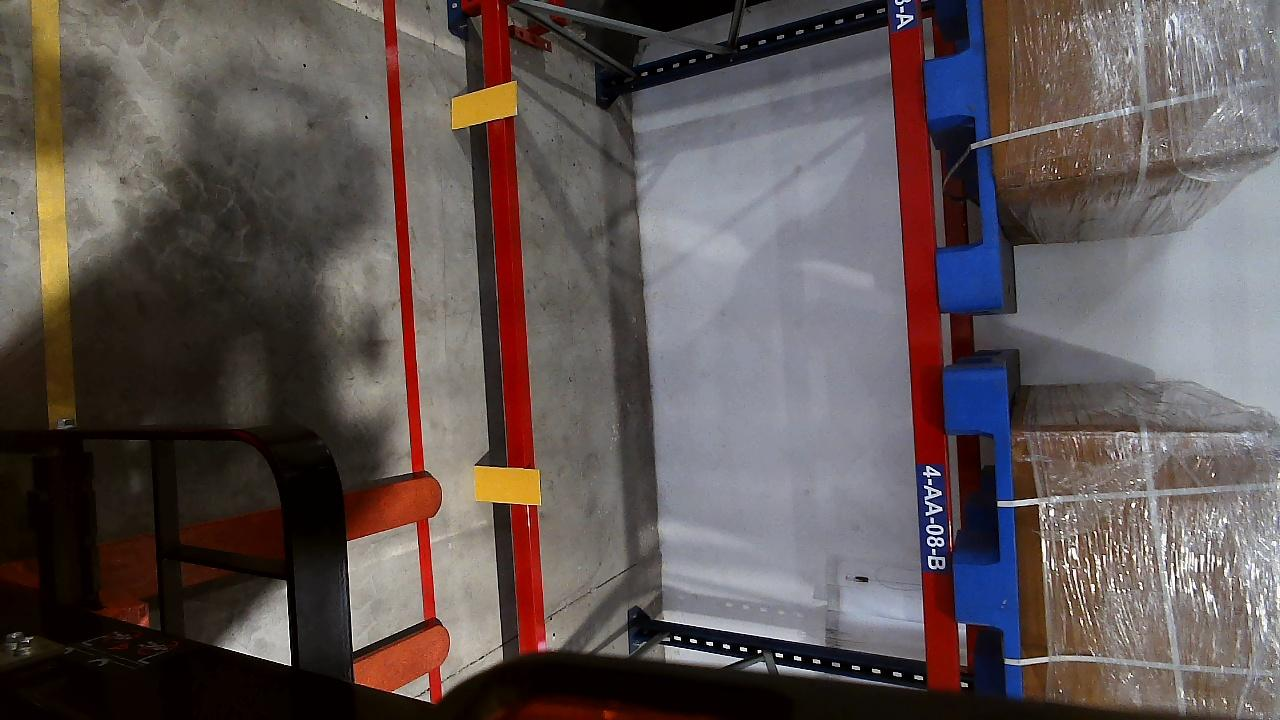h_rack: (882, 0, 954, 690), (476, 5, 529, 653)
orange_strip: (450, 82, 519, 129), (471, 464, 540, 505)
red_line: (380, 0, 443, 620)
small_pallet: (916, 0, 1007, 305), (942, 373, 1028, 690)
yellow_line: (31, 0, 74, 425)
